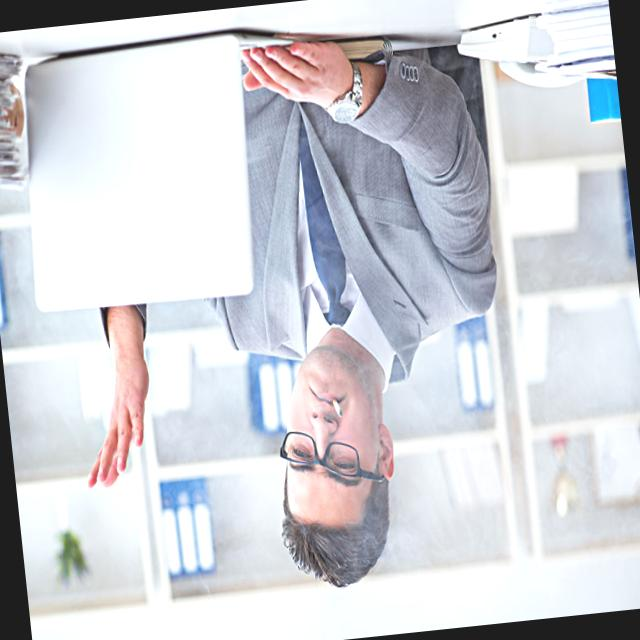smoke: (332, 396, 342, 422)
